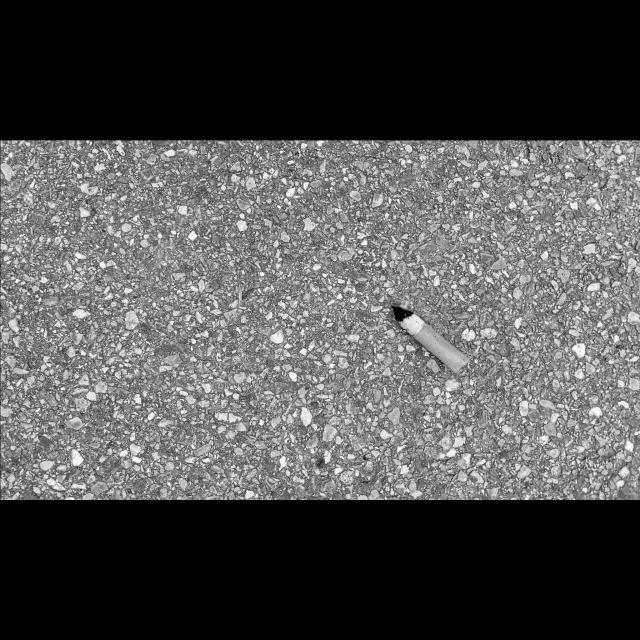cigarette: (390, 303, 470, 374)
